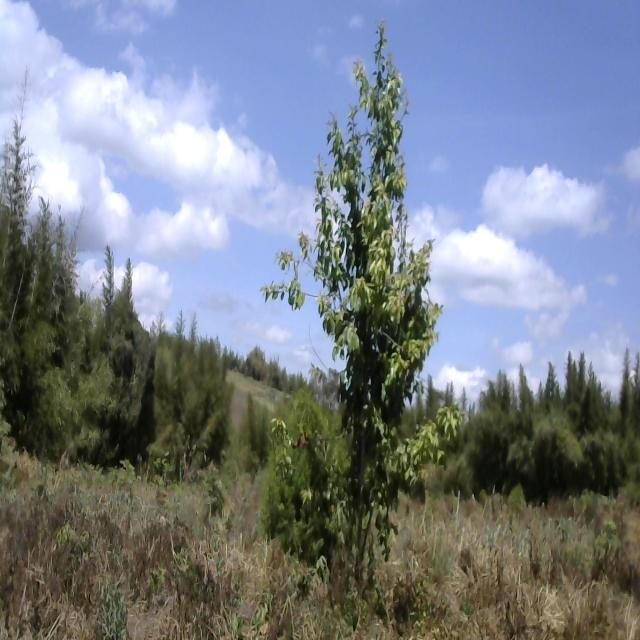Olea welwitchii: (261, 22, 468, 576)
